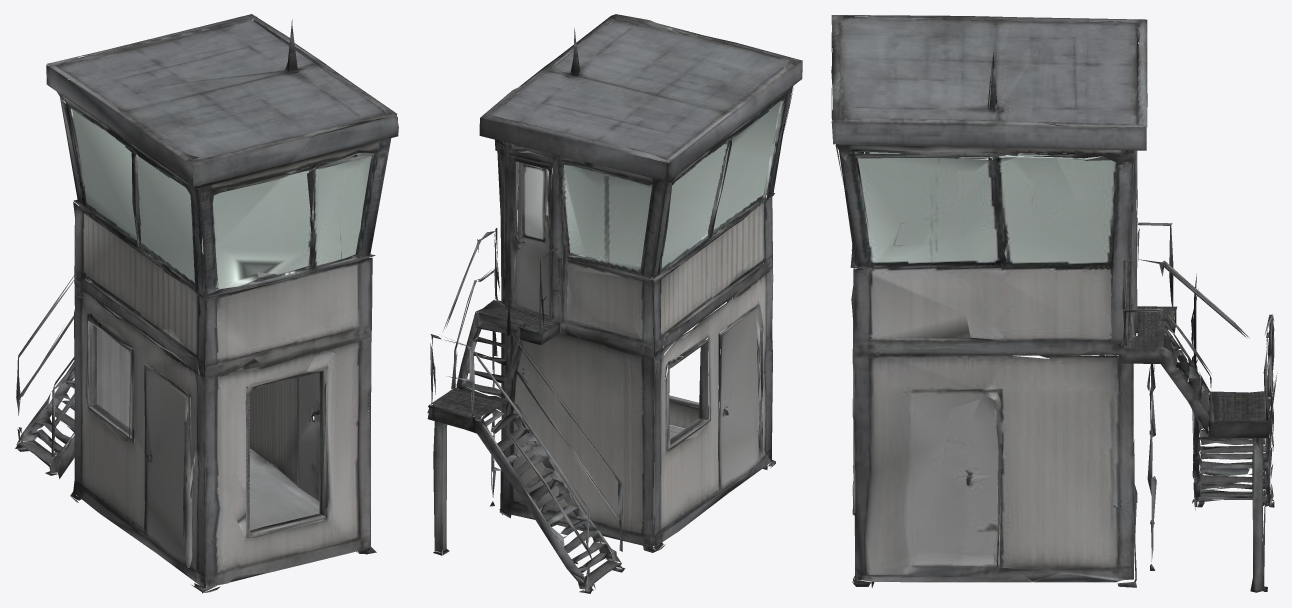
The model's file is kueste_zeitnahme.glb.
The picture shows the model from 3 angles, left to right: view 1: azimuth 30°, elevation 25°; view 2: azimuth 150°, elevation 25°; view 3: azimuth 270°, elevation 25°; orthographic projection. The views are drawn at different scales.
Visible parts, largest first — view 1: Prop; view 2: Prop; view 3: Prop.
Boxes of the visible parts, x1=… form: Prop: x1=15, y1=14, x2=398, y2=593; Prop: x1=427, y1=14, x2=802, y2=593; Prop: x1=831, y1=15, x2=1277, y2=592.
Bounding box in the file's own units: 0.446 × 1.01 × 0.7676.
Materials: 1 (1 with a texture image).
